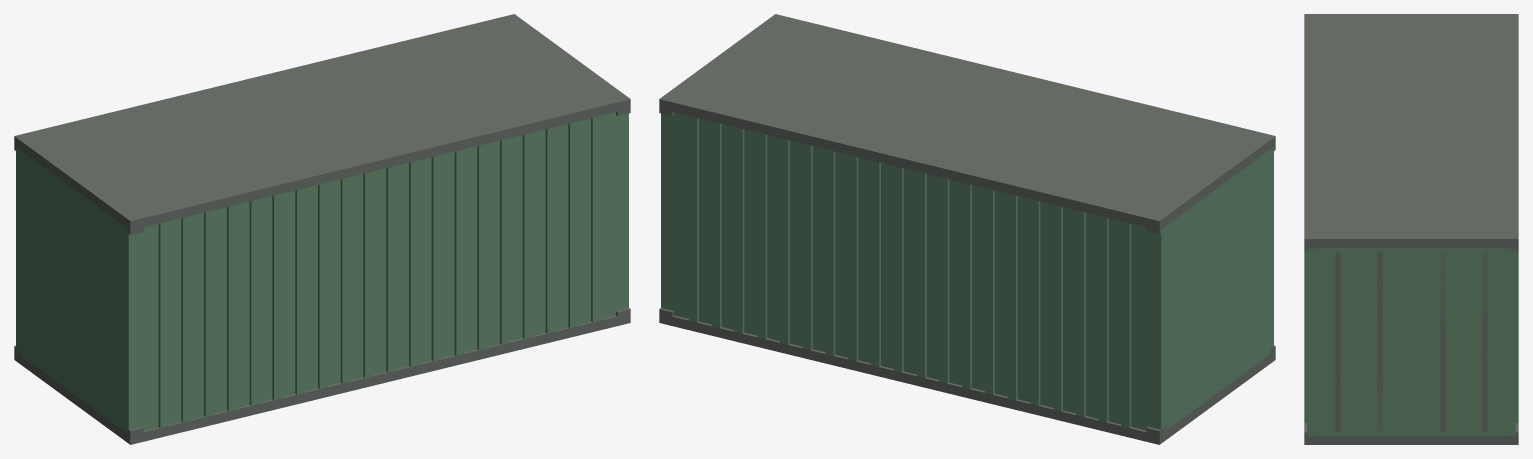
Rendered from SM_Container_Green.fbx.
The picture shows the model from 3 angles, left to right: view 1: azimuth 30°, elevation 25°; view 2: azimuth 150°, elevation 25°; view 3: azimuth 270°, elevation 25°; orthographic projection. The views are drawn at different scales.
Parts seen in each view (by area): view 1: SM_Container_Green; view 2: SM_Container_Green; view 3: SM_Container_Green.
Boxes of the visible parts, x1,y1,x2,y2 form: SM_Container_Green: (14,14,630,444); SM_Container_Green: (659,14,1275,444); SM_Container_Green: (1304,14,1518,444).
Size of the model in its own units: 606 by 259 by 244.
